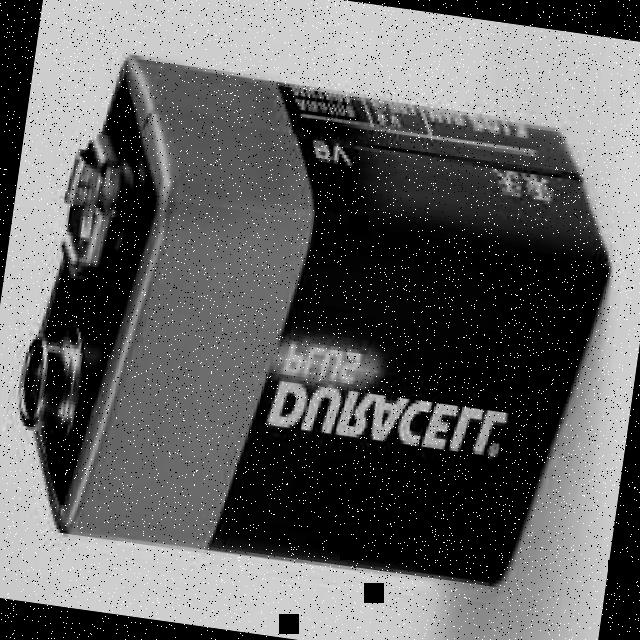battery: (16, 53, 610, 586)
